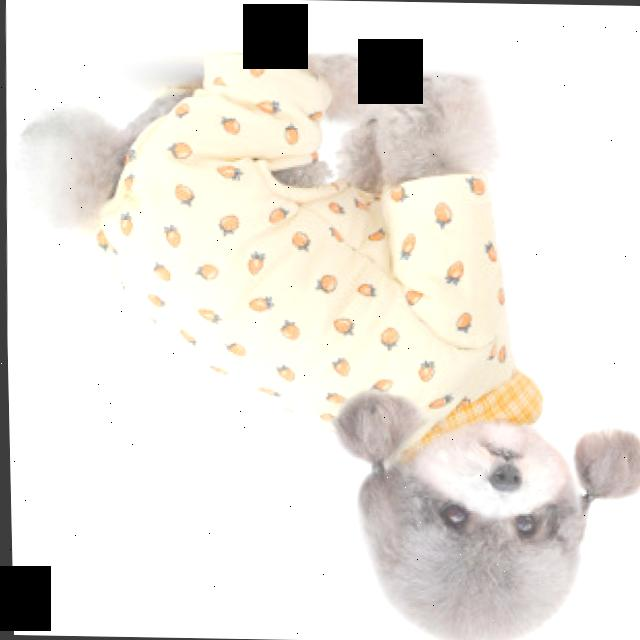cloth: (86, 56, 538, 460)
